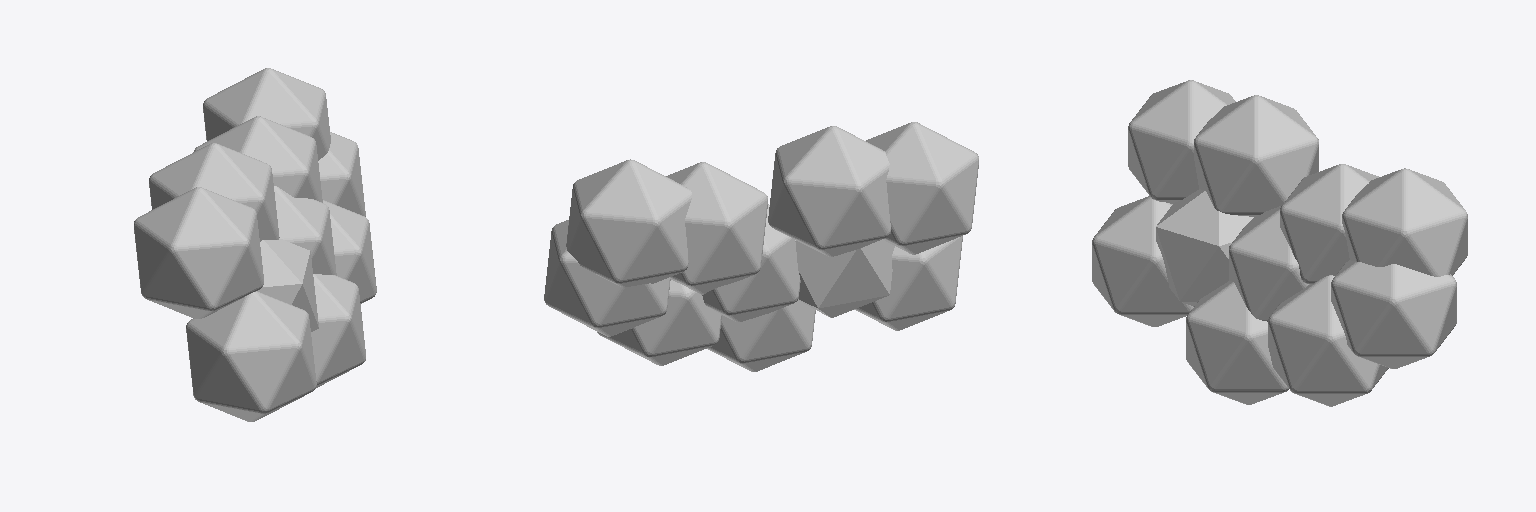
File: ScanningElectronIcosphere.obj
The picture shows the model from 3 angles: view 1: azimuth 30°, elevation 25°; view 2: azimuth 150°, elevation 25°; view 3: azimuth 270°, elevation 25°; orthographic projection.
Parts seen in each view (by area): view 1: Icosphere.003_Icosphere.006, Icosphere.004_Icosphere.006, Icosphere.009_Icosphere.006, Icosphere.002_Icosphere.006, Icosphere.001_Icosphere.006, Icosphere.005_Icosphere.006, Icosphere.006, Icosphere.007_Icosphere.006, Icosphere.008_Icosphere.006, Icosphere.010_Icosphere.000, Icosphere_Icosphere.006; view 2: Icosphere.002_Icosphere.006, Icosphere.009_Icosphere.006, Icosphere.003_Icosphere.006, Icosphere.001_Icosphere.006, Icosphere.008_Icosphere.006, Icosphere.004_Icosphere.006, Icosphere.007_Icosphere.006, Icosphere.006, Icosphere.005_Icosphere.006, Icosphere.010_Icosphere.000, Icosphere_Icosphere.006; view 3: Icosphere.002_Icosphere.006, Icosphere.008_Icosphere.006, Icosphere.009_Icosphere.006, Icosphere.007_Icosphere.006, Icosphere.004_Icosphere.006, Icosphere.005_Icosphere.006, Icosphere.003_Icosphere.006, Icosphere.001_Icosphere.006, Icosphere.006, Icosphere.010_Icosphere.000, Icosphere_Icosphere.006.
Boxes of the visible parts, box(x1,y1,x2,y2) form: Icosphere.003_Icosphere.006: box(134, 187, 263, 318); Icosphere.004_Icosphere.006: box(186, 291, 316, 421); Icosphere.009_Icosphere.006: box(203, 68, 330, 160); Icosphere.002_Icosphere.006: box(149, 143, 279, 241); Icosphere.001_Icosphere.006: box(194, 116, 322, 202); Icosphere.005_Icosphere.006: box(311, 274, 365, 387); Icosphere.006: box(274, 186, 336, 275); Icosphere.007_Icosphere.006: box(323, 200, 376, 303); Icosphere.008_Icosphere.006: box(318, 132, 365, 216); Icosphere.010_Icosphere.000: box(258, 238, 318, 331); Icosphere_Icosphere.006: box(258, 242, 315, 329); Icosphere.002_Icosphere.006: box(768, 126, 890, 256); Icosphere.009_Icosphere.006: box(566, 159, 691, 287); Icosphere.003_Icosphere.006: box(866, 122, 978, 254); Icosphere.001_Icosphere.006: box(666, 162, 767, 294); Icosphere.008_Icosphere.006: box(544, 220, 670, 336); Icosphere.004_Icosphere.006: box(854, 236, 962, 330); Icosphere.007_Icosphere.006: box(597, 280, 721, 365); Icosphere.006: box(702, 204, 800, 321); Icosphere.005_Icosphere.006: box(707, 300, 815, 371); Icosphere.010_Icosphere.000: box(795, 239, 894, 317); Icosphere_Icosphere.006: box(796, 244, 888, 313); Icosphere.002_Icosphere.006: box(1194, 95, 1318, 216); Icosphere.008_Icosphere.006: box(1331, 260, 1456, 368); Icosphere.009_Icosphere.006: box(1342, 168, 1467, 276); Icosphere.007_Icosphere.006: box(1268, 275, 1388, 406); Icosphere.004_Icosphere.006: box(1092, 196, 1193, 326); Icosphere.005_Icosphere.006: box(1186, 281, 1288, 404); Icosphere.003_Icosphere.006: box(1128, 80, 1235, 203); Icosphere.001_Icosphere.006: box(1280, 164, 1378, 284); Icosphere.006: box(1229, 206, 1308, 321); Icosphere.010_Icosphere.000: box(1156, 190, 1253, 306); Icosphere_Icosphere.006: box(1157, 189, 1249, 305).
Bounding box in the file's own units: 4.9 × 3.95 × 5.03.